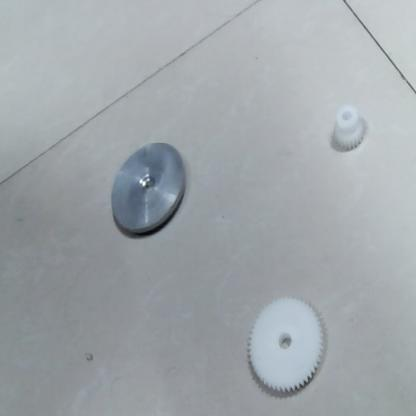FOD: (108, 135, 190, 245), (248, 291, 330, 400), (323, 102, 369, 162)
